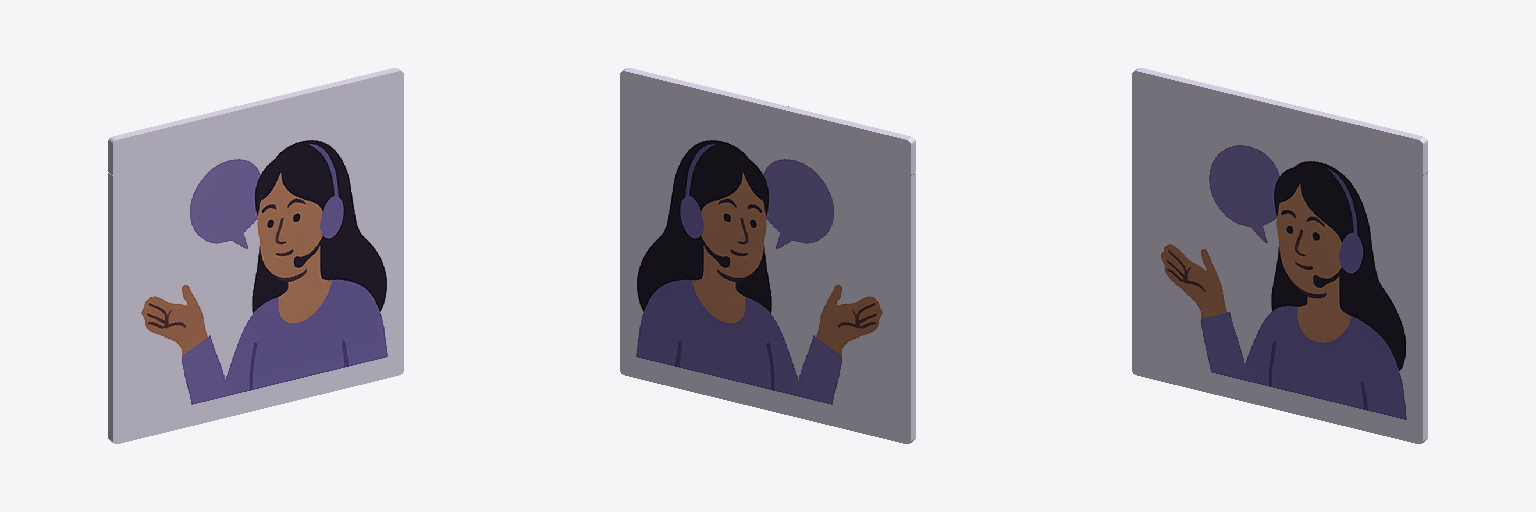
The picture shows the model from 3 angles: view 1: azimuth 30°, elevation 25°; view 2: azimuth 150°, elevation 25°; view 3: azimuth 330°, elevation 25°; orthographic projection.
Visible parts, largest first — view 1: Plano; view 2: Plano; view 3: Plano.
Part boxes in pixels (x1,y1,x2,y2): Plano: (108, 68, 403, 443); Plano: (620, 68, 915, 443); Plano: (1132, 68, 1427, 443).
Size of the model in its own units: 10 by 10 by 0.28.
Materials: 1 (1 with a texture image).